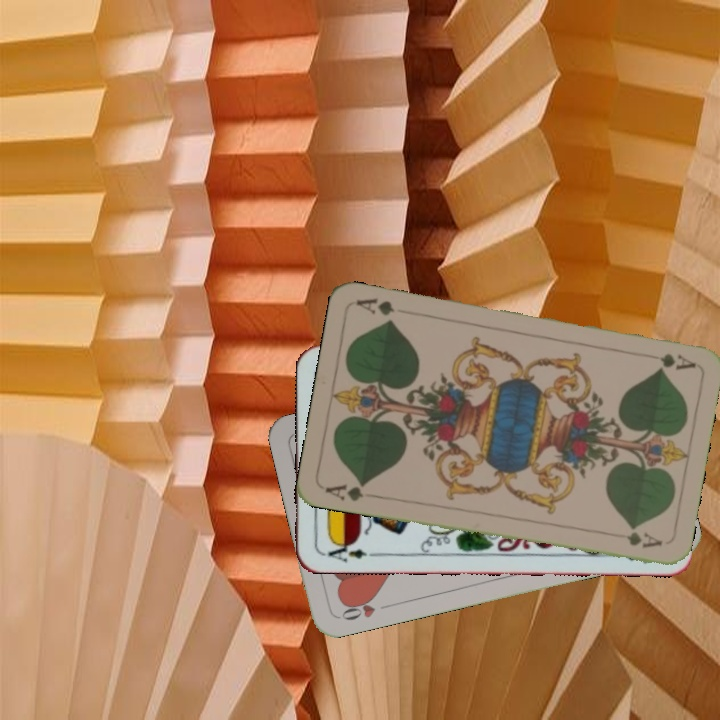EA: (320, 537, 379, 565)
GA: (321, 478, 380, 504), (655, 349, 697, 373)
HO: (337, 592, 379, 623)
